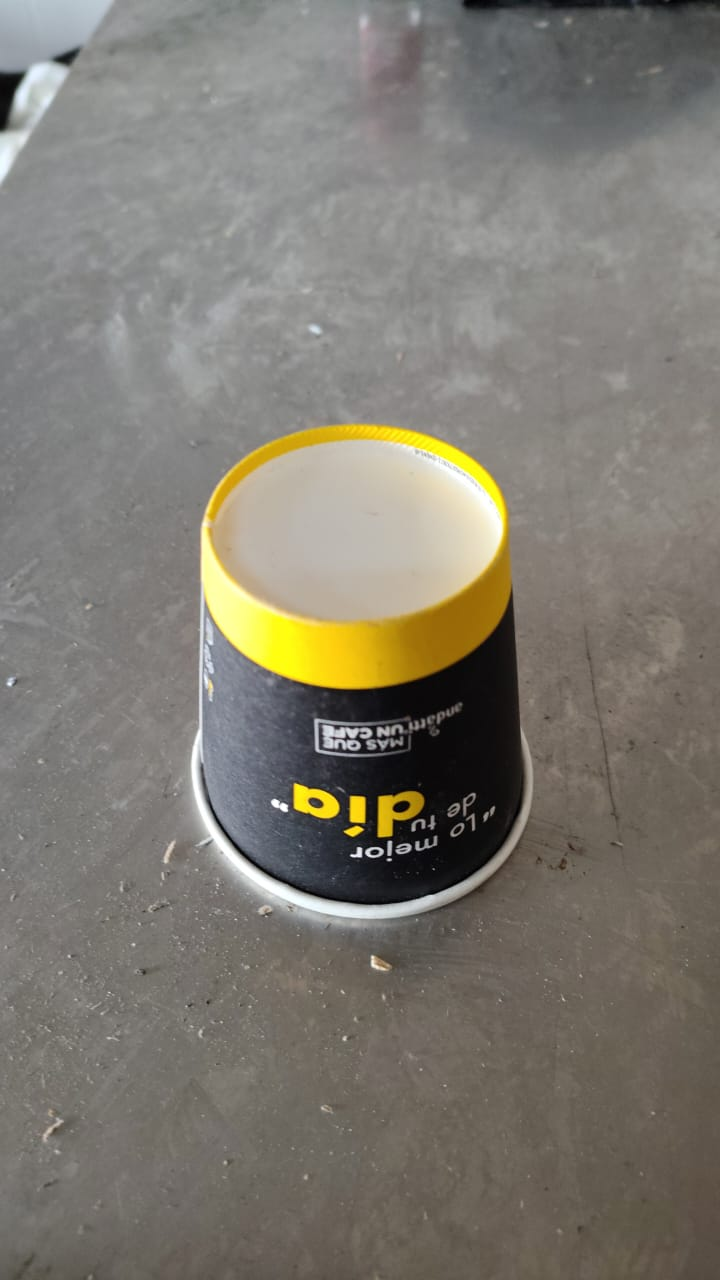Carton: (189, 420, 539, 923)
